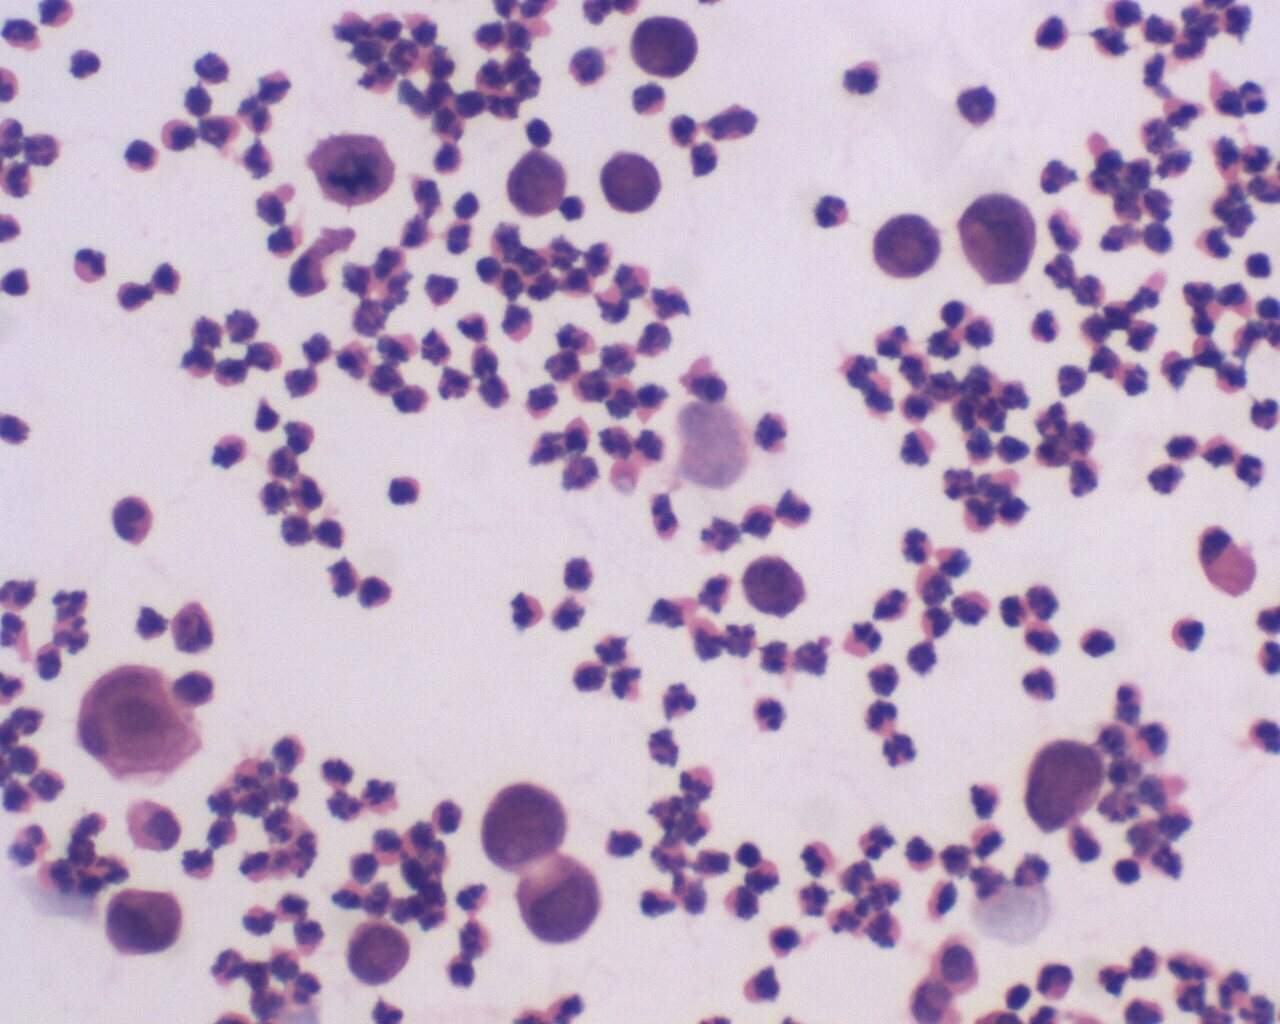ab: (1014, 735, 1110, 837), (955, 188, 1045, 294), (478, 782, 571, 872), (306, 127, 399, 216), (511, 856, 601, 947), (97, 888, 191, 965), (865, 207, 948, 284), (620, 11, 701, 77), (340, 923, 418, 990), (501, 149, 573, 218), (597, 149, 665, 220), (739, 551, 809, 616)
lymph: (734, 840, 765, 868)
neutro: (1168, 612, 1215, 658), (809, 185, 853, 234), (66, 238, 109, 286), (176, 338, 222, 381), (508, 587, 549, 636), (747, 694, 793, 737), (1053, 355, 1095, 402), (840, 50, 879, 100), (1017, 666, 1063, 707), (652, 678, 694, 722), (898, 426, 942, 467), (189, 48, 234, 88), (858, 698, 904, 737), (778, 486, 818, 530), (1031, 14, 1075, 50), (1023, 307, 1065, 345), (897, 527, 936, 565), (383, 467, 421, 508), (67, 42, 103, 83), (1235, 449, 1269, 493), (457, 305, 495, 341)
